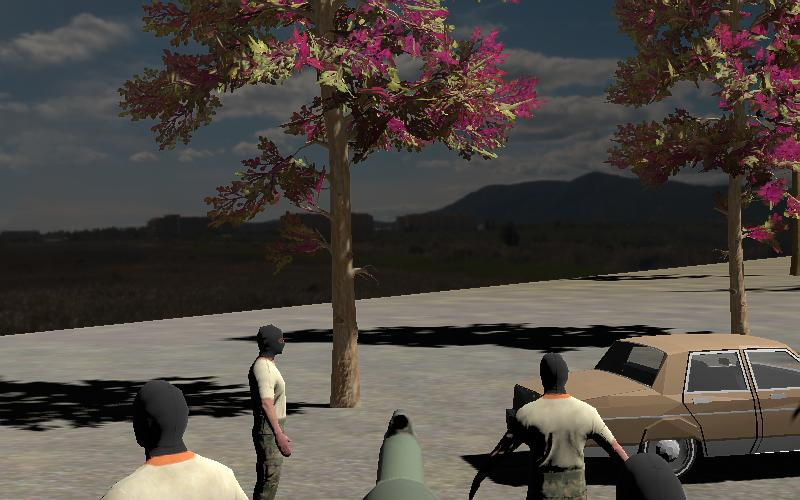Human: (467, 350, 634, 500), (90, 371, 252, 500), (240, 315, 297, 499)
car: (506, 331, 800, 482)
